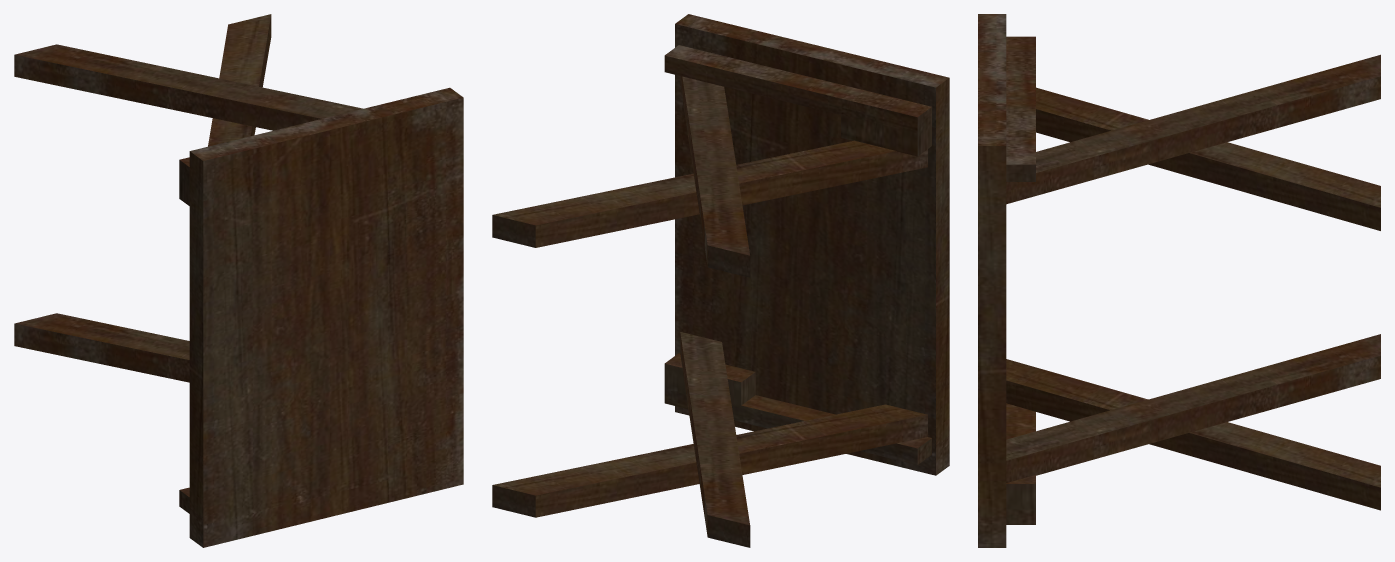
The model's file is furniture_duhoc_bunker_seat.glb.
3 views of the same model, side by side, from view 1: azimuth 30°, elevation 25°; view 2: azimuth 150°, elevation 25°; view 3: azimuth 270°, elevation 25° (orthographic). The views are drawn at different scales.
Size of the model in its own units: 15.31 by 21.6 by 19.62.
1 material, 1 textured.
